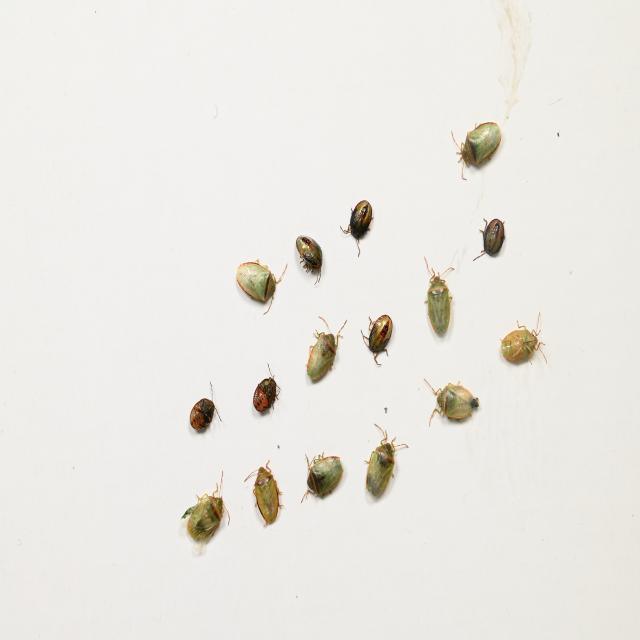stinkbug: (180, 464, 230, 552), (362, 420, 410, 501), (419, 251, 457, 342), (420, 375, 480, 432), (448, 120, 504, 181), (234, 256, 289, 317), (304, 314, 349, 386), (243, 458, 285, 532), (498, 311, 548, 372), (298, 448, 344, 510)
